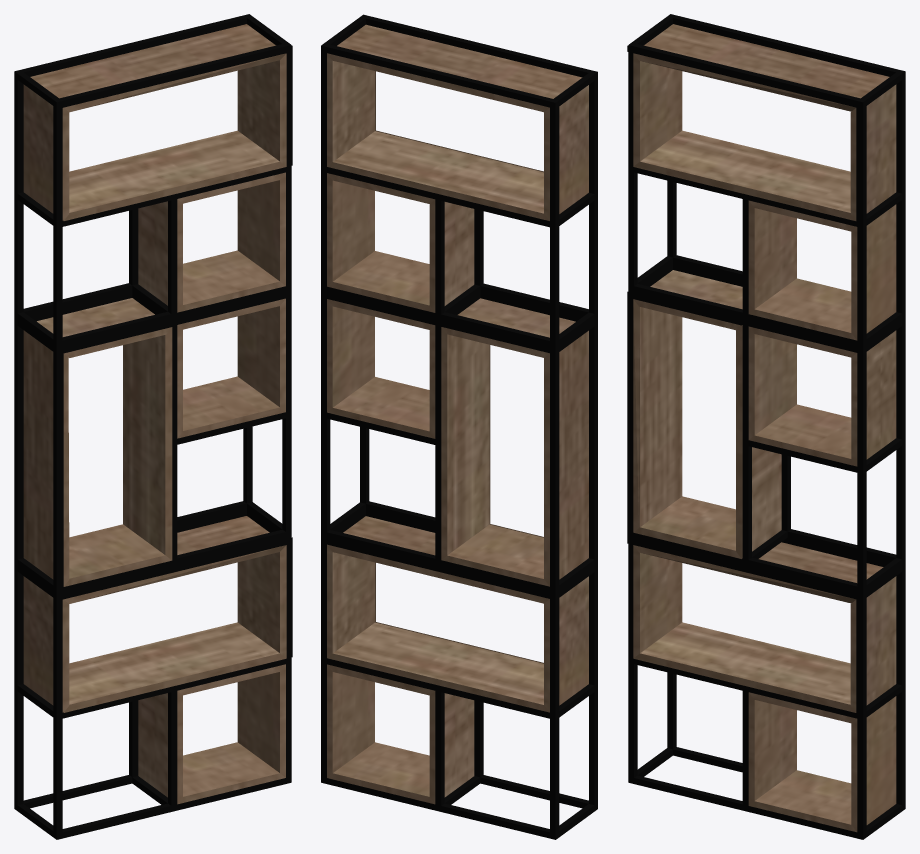
Rendered from Shelf.fbx.
3 renders of one model, left to right at view 1: azimuth 30°, elevation 25°; view 2: azimuth 150°, elevation 25°; view 3: azimuth 330°, elevation 25°, orthographic.
Visible parts, largest first — view 1: Tall Shelf; view 2: Tall Shelf; view 3: Tall Shelf.
Part boxes in pixels (x1,y1,x2,y2): Tall Shelf: (14,14,292,839); Tall Shelf: (321,14,597,839); Tall Shelf: (627,14,905,839).
Bounding box in the file's own units: 80 × 240 × 25.49.
Materials: 2 (2 with a texture image).
